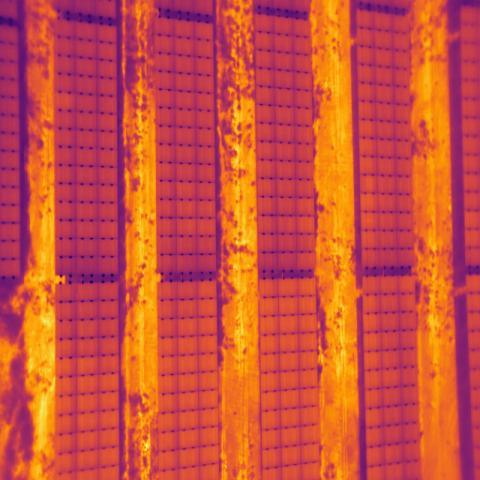fault: (54, 91, 74, 111)
